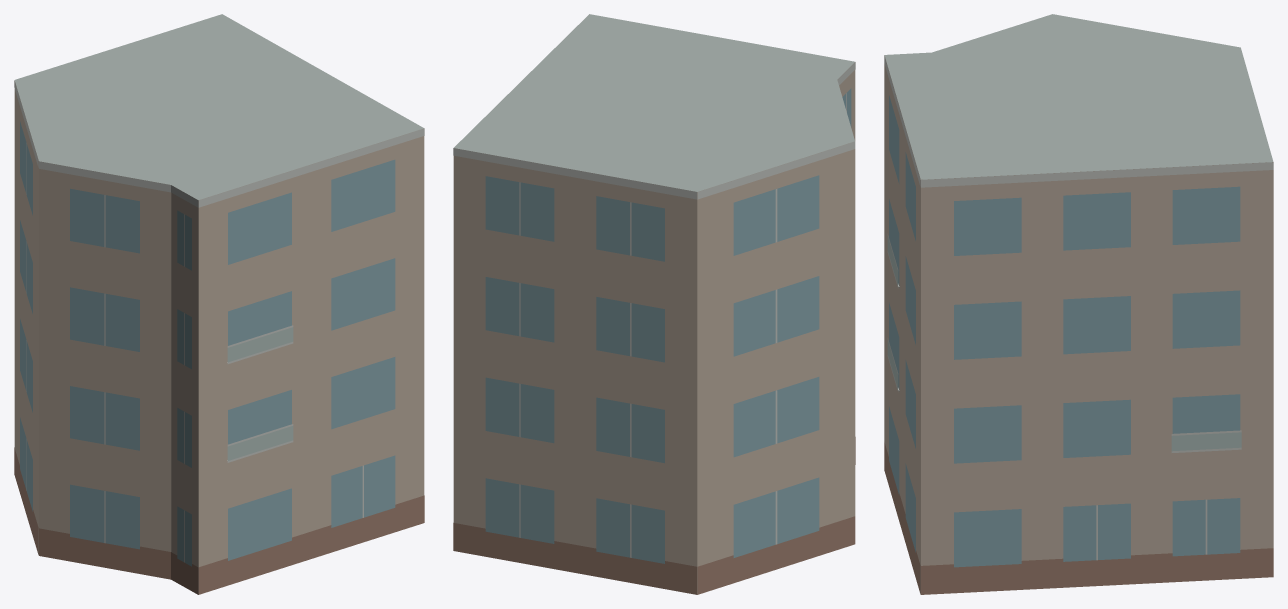
The model's file is survey-upis-32700146.glb.
The picture shows the model from 3 angles, left to right: view 1: azimuth 30°, elevation 25°; view 2: azimuth 150°, elevation 25°; view 3: azimuth 270°, elevation 25°; orthographic projection. The views are drawn at different scales.
Visible parts, largest first — view 1: survey-upis-32700146.tmp; view 2: survey-upis-32700146.tmp; view 3: survey-upis-32700146.tmp.
Boxes of the visible parts, x1,y1,x2,y2 form: survey-upis-32700146.tmp: [14, 14, 424, 594]; survey-upis-32700146.tmp: [453, 14, 855, 594]; survey-upis-32700146.tmp: [884, 14, 1273, 594].
Bounding box in the file's own units: 10.97 × 12.8 × 10.89.
